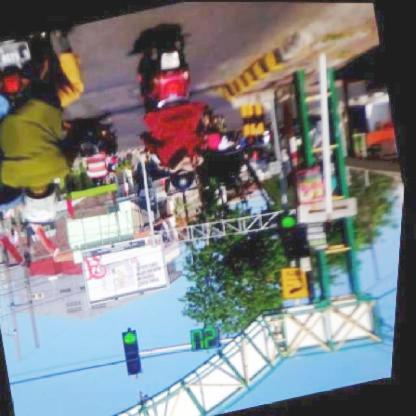Traffic Light -Green-: (280, 214, 308, 260), (124, 329, 150, 376)
